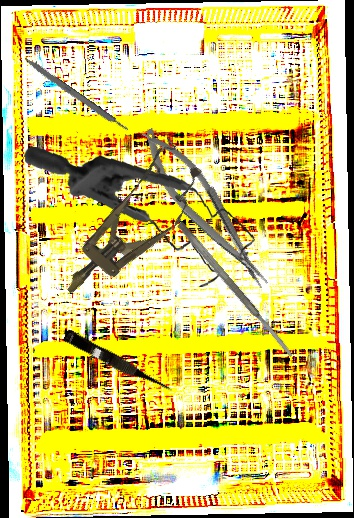Micro Scissor: (61, 328, 175, 400)
Needle Holder: (131, 118, 277, 301)
Scalpel Handle: (22, 55, 129, 135)
Spatula Surgical: (176, 220, 295, 360)
Speculum: (23, 128, 261, 302), (44, 136, 217, 315)
